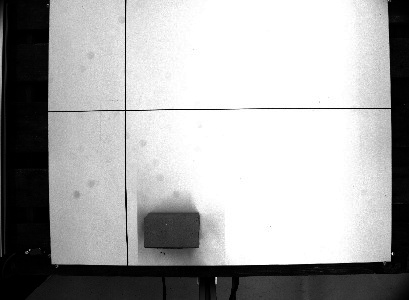b2: (141, 210, 203, 250)
